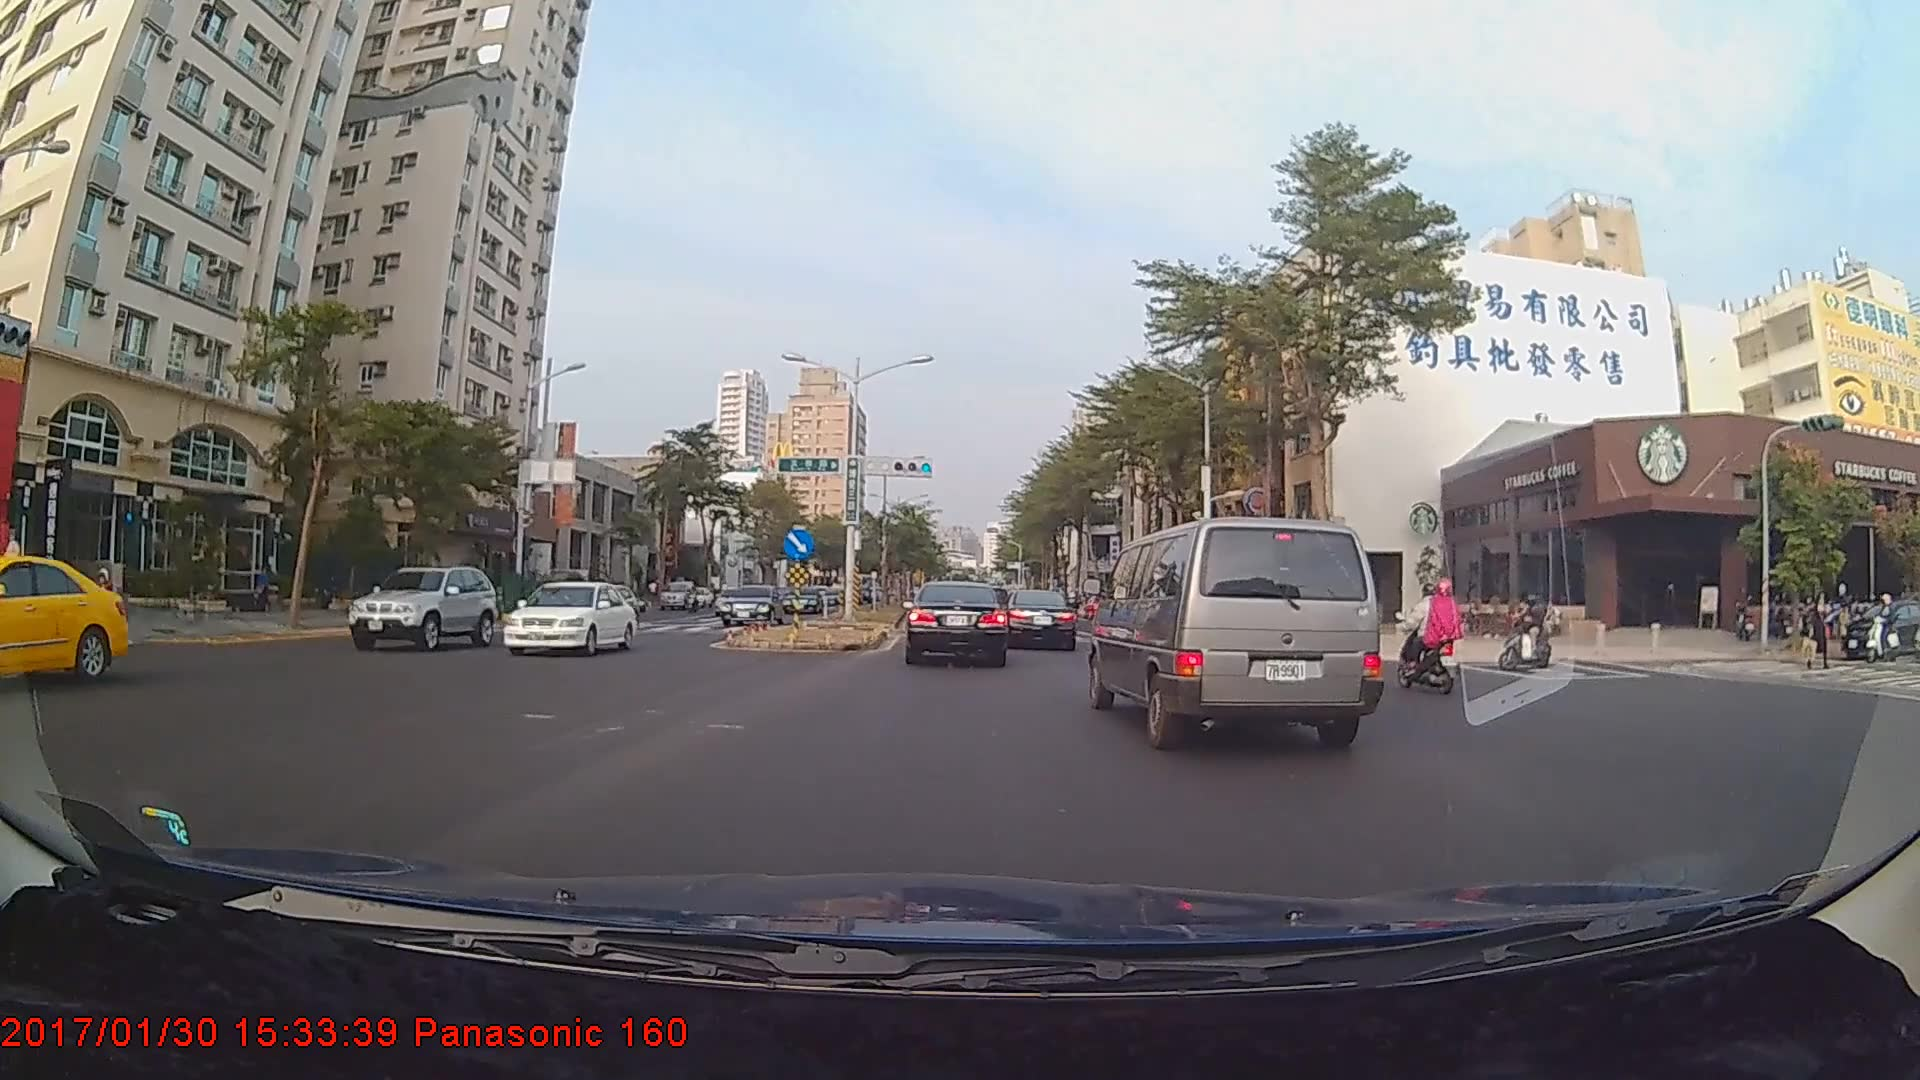pedestrian: (1807, 591, 1832, 672)
rider: (1395, 570, 1472, 686), (1501, 588, 1559, 675), (77, 569, 128, 651), (1863, 590, 1904, 665)
vehicle: (1095, 512, 1376, 750), (0, 560, 128, 685), (346, 565, 499, 652), (497, 578, 638, 655), (904, 581, 1008, 666), (1003, 589, 1078, 651), (714, 582, 784, 629)
